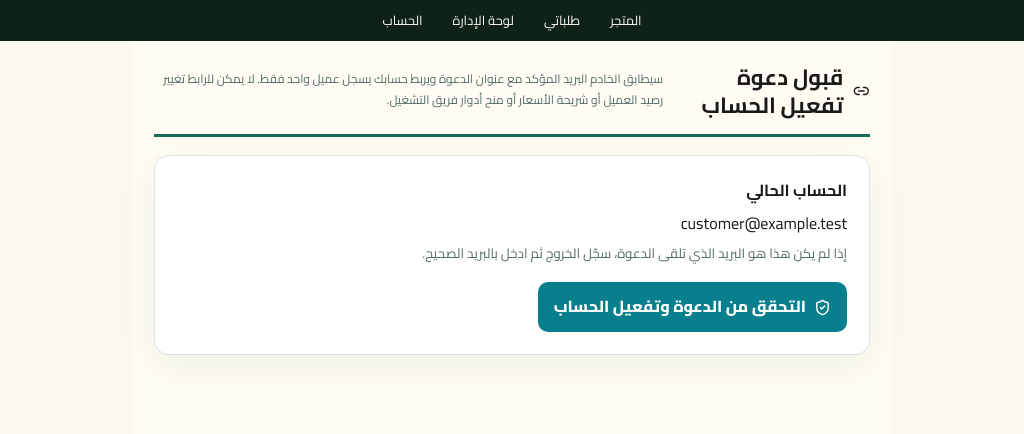
Test case: customer activation real route acceptance › passes the actual route token, strips it before the RPC, preserves retry, and confirms only server success
Click the button "التحقق من الدعوة وتفعيل الحساب" at (692, 307), box [538,282,847,332]
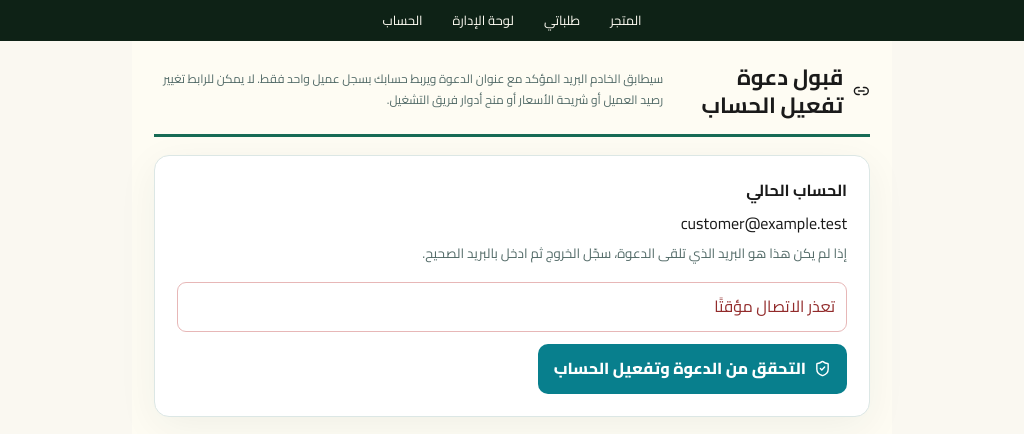
expect the text "تم تفعيل حساب العميل" is not shown: met
expect the message "تعذر الاتصال مؤقتًا" is shown: met, box [177,282,847,332]
Click the button "التحقق من الدعوة وتفعيل الحساب" at (692, 369), box [538,344,847,394]
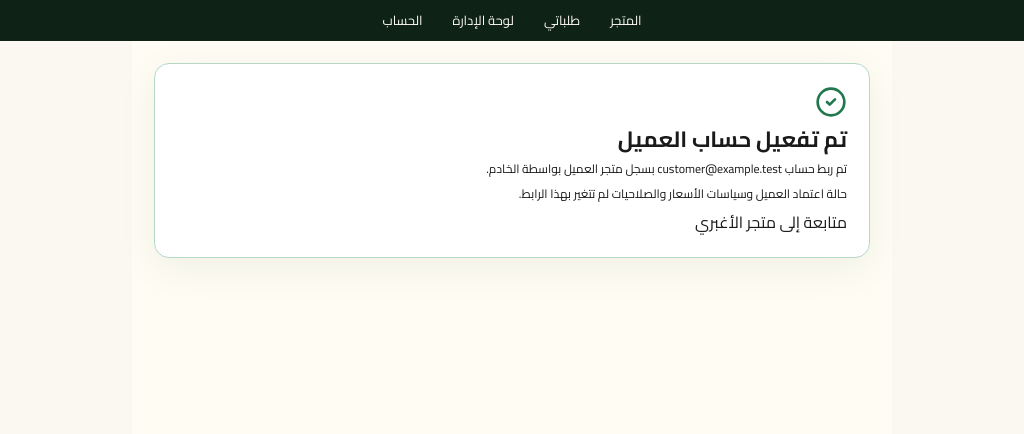
expect the message shows "تم تفعيل حساب العميل": met, box [618,118,847,160]
expect the text "متجر العميل" is shown: met, box [564,157,623,180]
